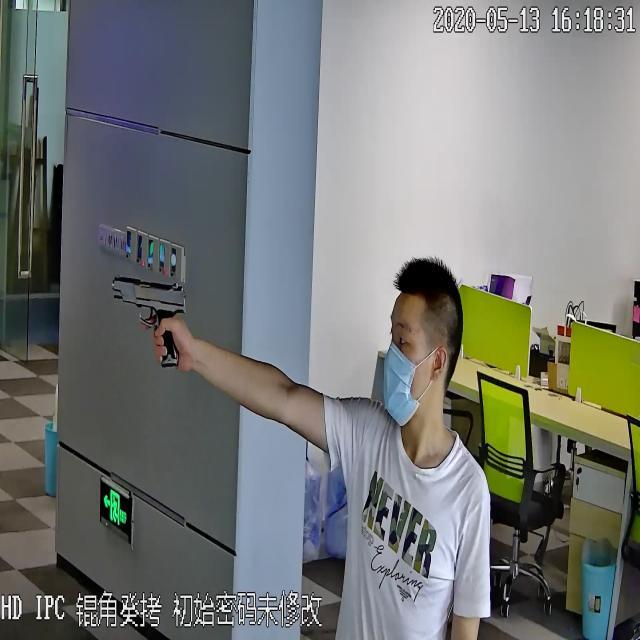gun: (106, 257, 184, 369)
